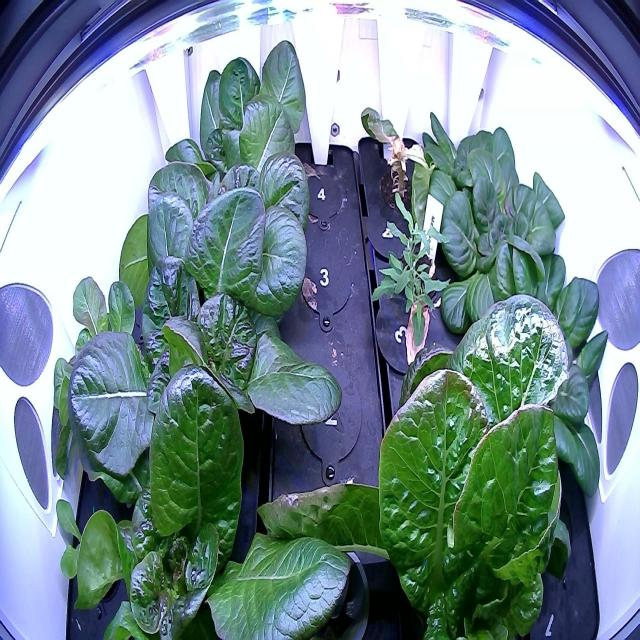Ready: (63, 173, 351, 499), (64, 356, 358, 637), (442, 244, 616, 496), (131, 104, 316, 308), (154, 25, 310, 202), (429, 157, 566, 310), (412, 103, 530, 221)
empty_pod: (291, 352, 365, 476), (291, 228, 355, 325), (294, 156, 347, 225)
